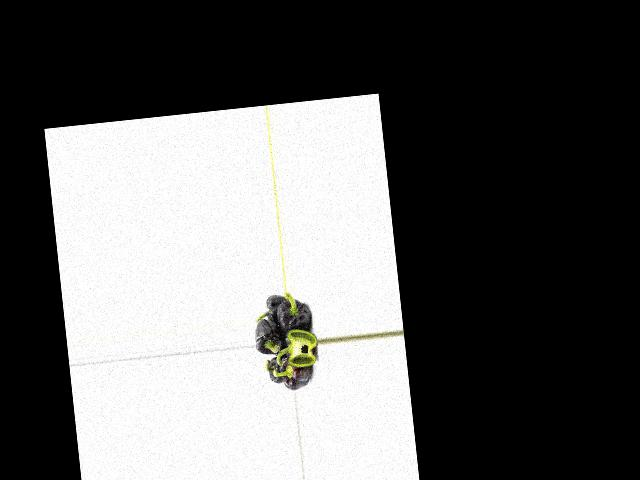bell_pepper: (278, 348, 312, 390)
